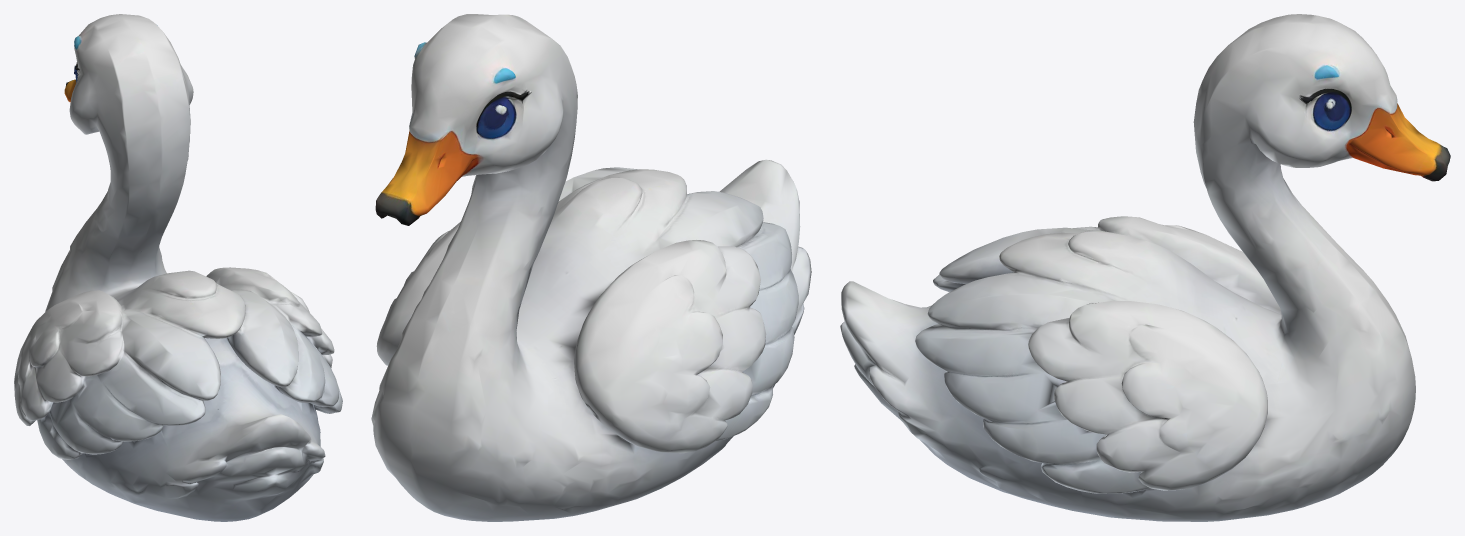
Rendered from swan.glb.
3 renders of one model, left to right at view 1: azimuth 30°, elevation 25°; view 2: azimuth 150°, elevation 25°; view 3: azimuth 270°, elevation 25°, orthographic. The views are drawn at different scales.
Parts seen in each view (by area): view 1: tripo_node_6d61a529-4b3b-44b9-b4e5-7d56c6ca1d33; view 2: tripo_node_6d61a529-4b3b-44b9-b4e5-7d56c6ca1d33; view 3: tripo_node_6d61a529-4b3b-44b9-b4e5-7d56c6ca1d33.
Part boxes in pixels (box(x1,y1,x2,y2)): tripo_node_6d61a529-4b3b-44b9-b4e5-7d56c6ca1d33: box(14, 14, 342, 521); tripo_node_6d61a529-4b3b-44b9-b4e5-7d56c6ca1d33: box(371, 14, 811, 521); tripo_node_6d61a529-4b3b-44b9-b4e5-7d56c6ca1d33: box(840, 14, 1450, 521).
Size of the model in its own units: 0.2289 by 0.3 by 0.3635.
1 material, 1 textured.
